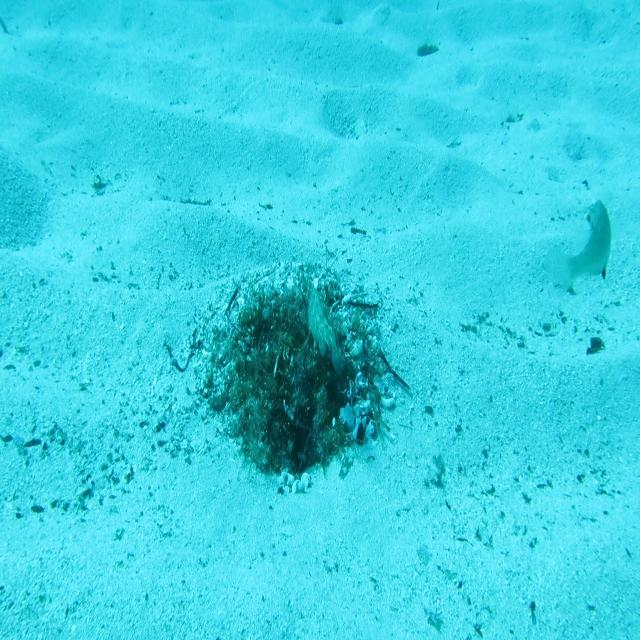NIP_CORE: (306, 284, 348, 379)
core_nest: (266, 314, 324, 356)
female: (544, 196, 612, 306)
nest: (184, 247, 404, 505)
vegetation: (584, 335, 608, 356)
